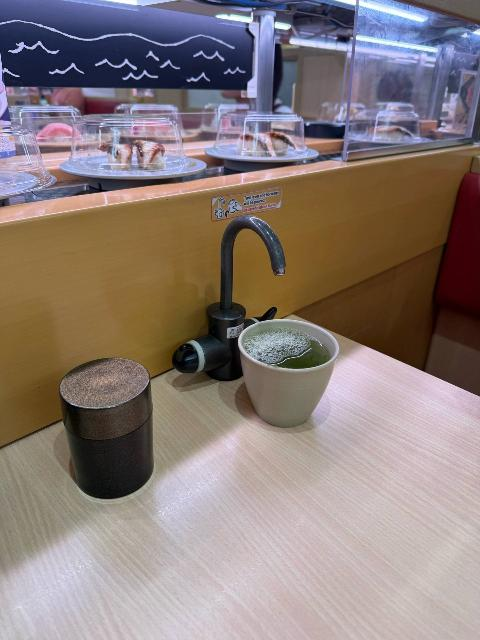janwhite: (59, 141, 214, 192), (198, 123, 306, 168), (342, 131, 448, 169), (0, 157, 56, 206)
